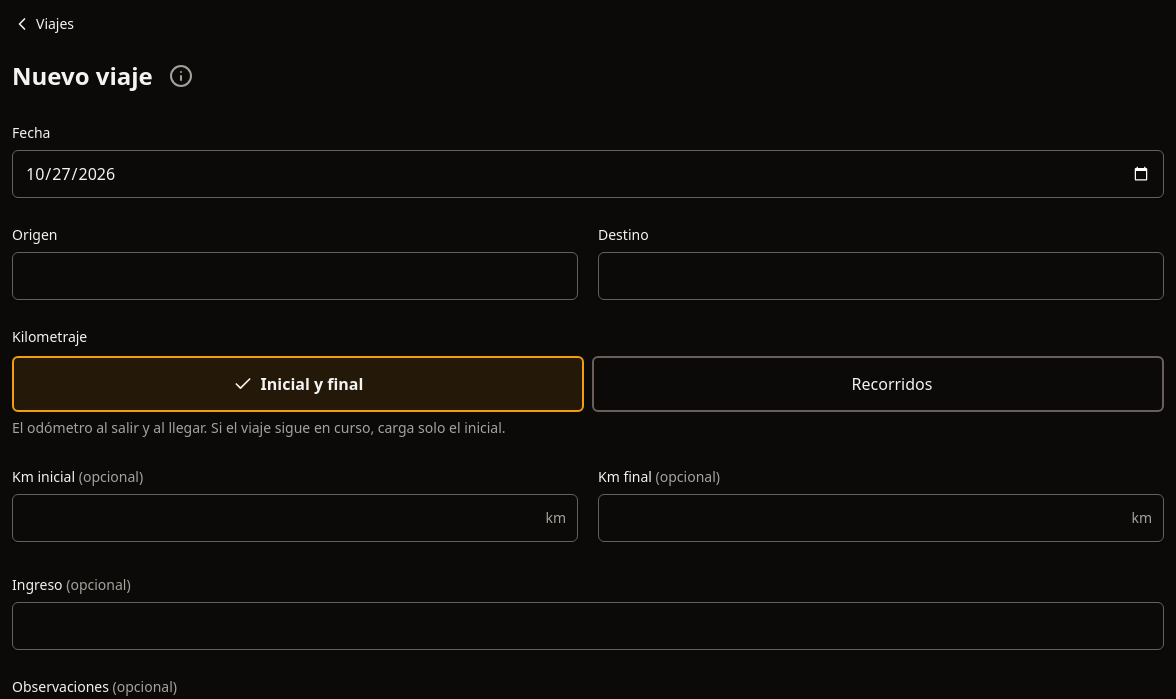
Test case: formulario de viaje: modo de kilometraje › por defecto "Inicial y final" (km inicial y final, sin recorridos); al elegir "Recorridos" queda un solo campo
The width and height of the screenshot is (1176, 699).
Expected: the radio button labelled "Inicial y final" is checked, left=12, top=356, right=584, bottom=412
Expected: the field labelled "Km inicial (opcional)" is shown, left=12, top=494, right=578, bottom=542
Click the radio button labelled "Recorridos": (878, 384) left=592, top=356, right=1164, bottom=412
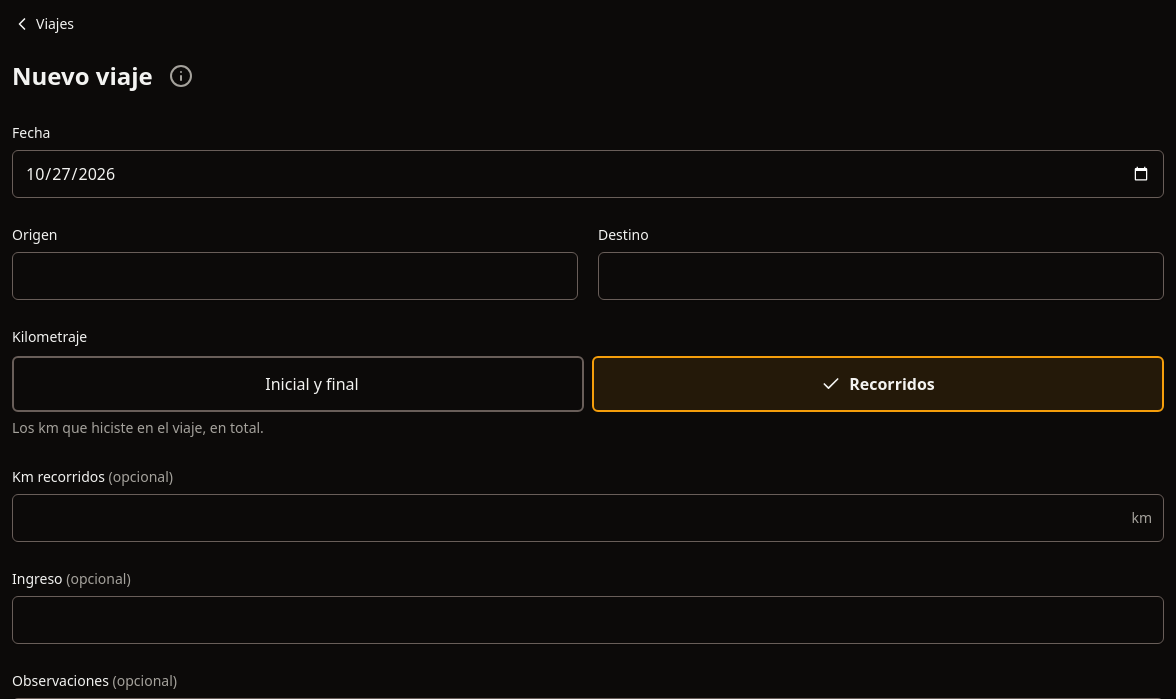
Now the radio button labelled "Recorridos" is checked, box left=592, top=356, right=1164, bottom=412
Now the label is gone
Now the field labelled "Km recorridos (opcional)" is shown, box left=12, top=494, right=1164, bottom=542
